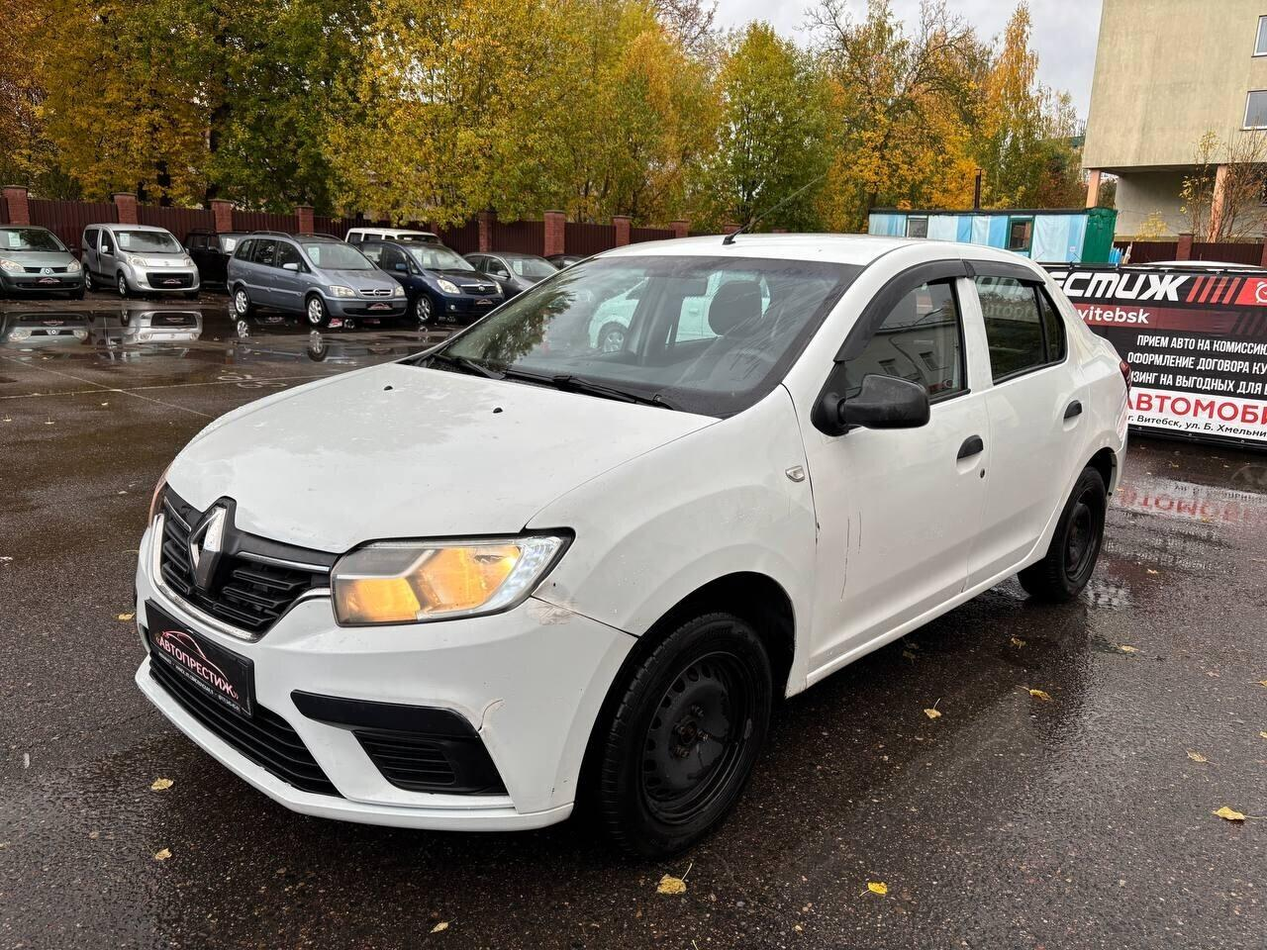Logan_2018: (122, 229, 1136, 858)
